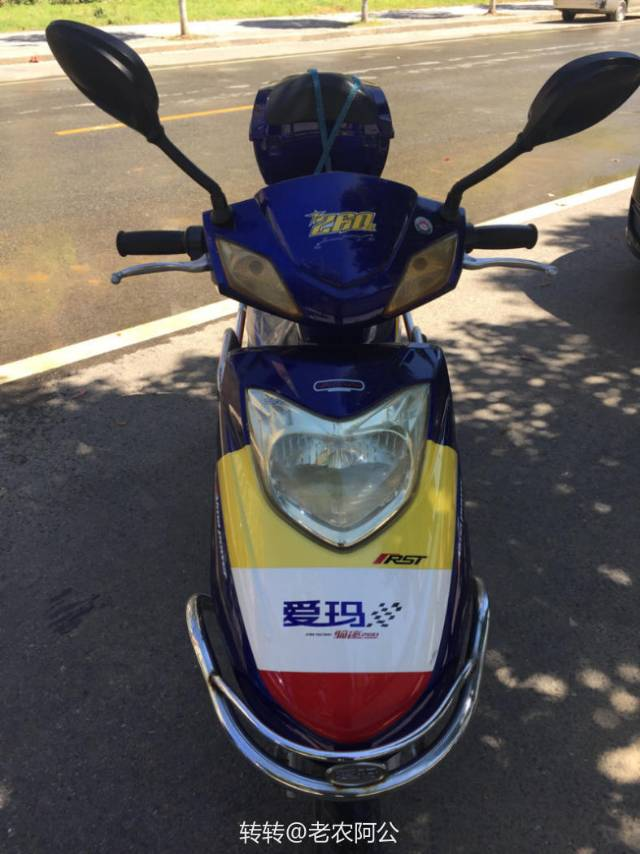电动车: (37, 13, 637, 851)
